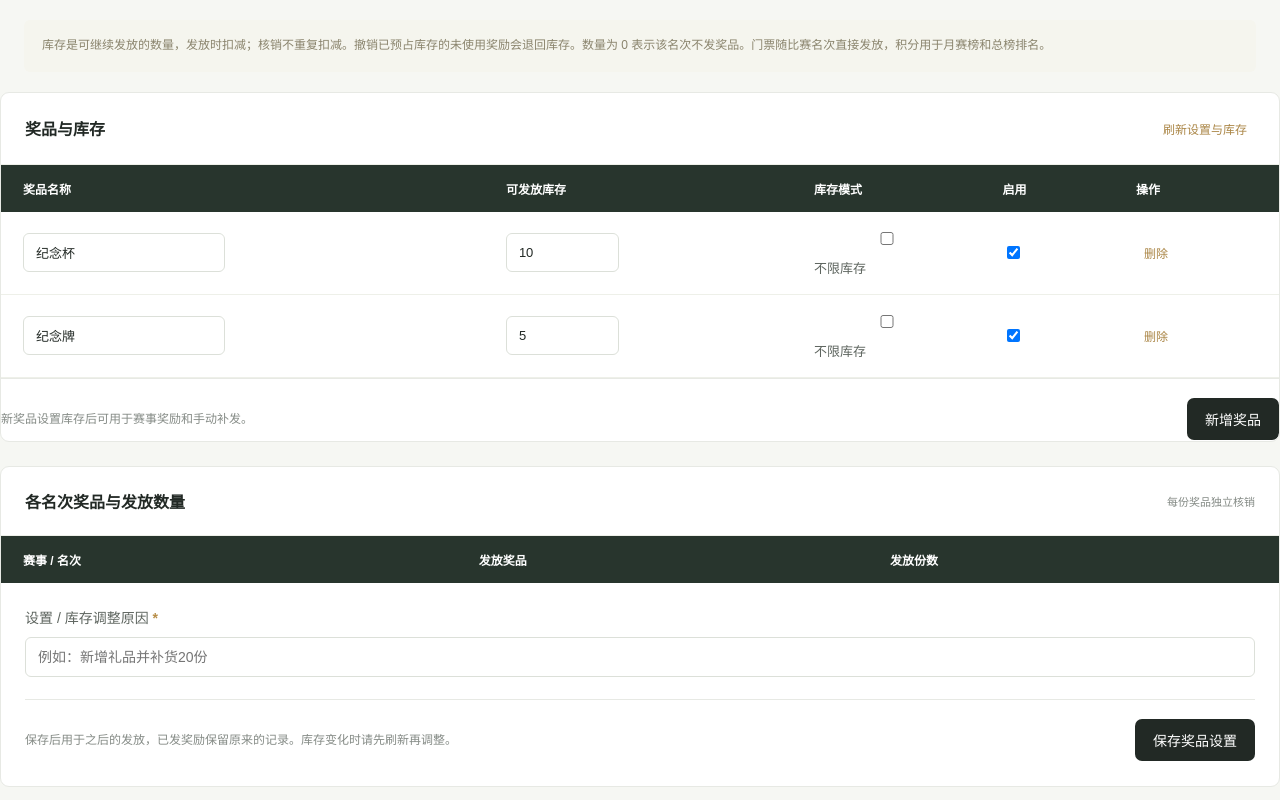
Test case: 删除奖品通过页面弹窗确认，保留其他尚未保存的修改
The image size is (1280, 800).
Expected: the field named "CUSTOM_A奖品名称" is shown, [23,233,225,272]
Replace the text in the field named "CUSTOM_B奖品名称" with "保留未保存修改" at (124, 336), box [23,316,225,355]
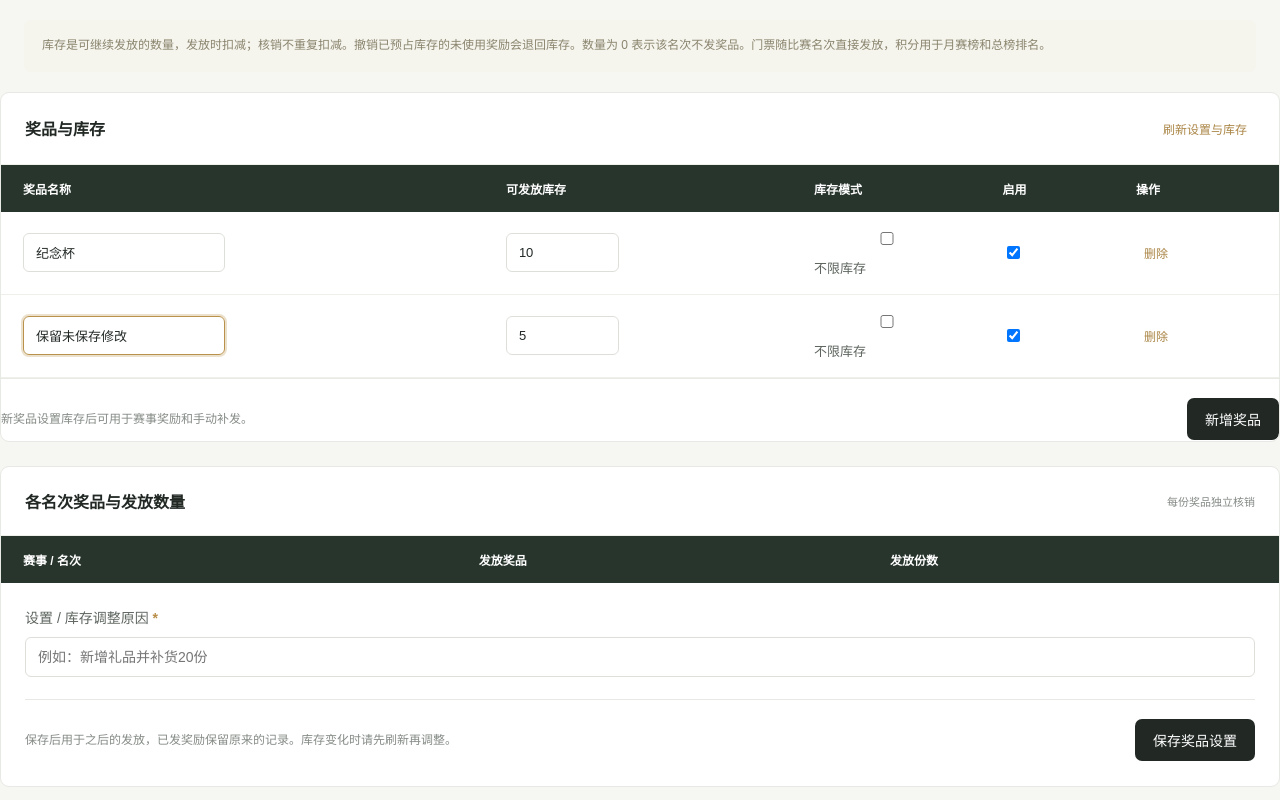
Click the button with aria-label "删除纪念杯" at (1156, 253), box [1136,239,1176,266]
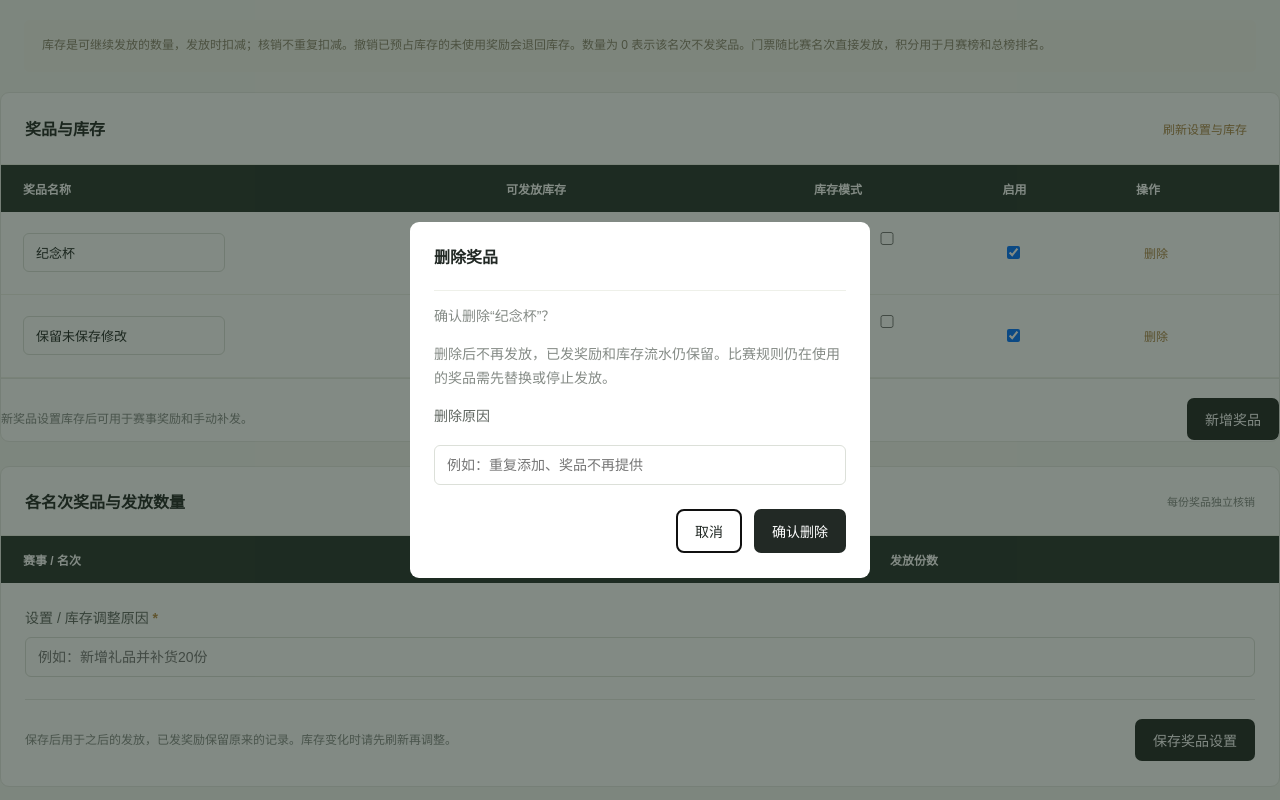
Click the button "取消" at (709, 531), box [676,509,742,553]
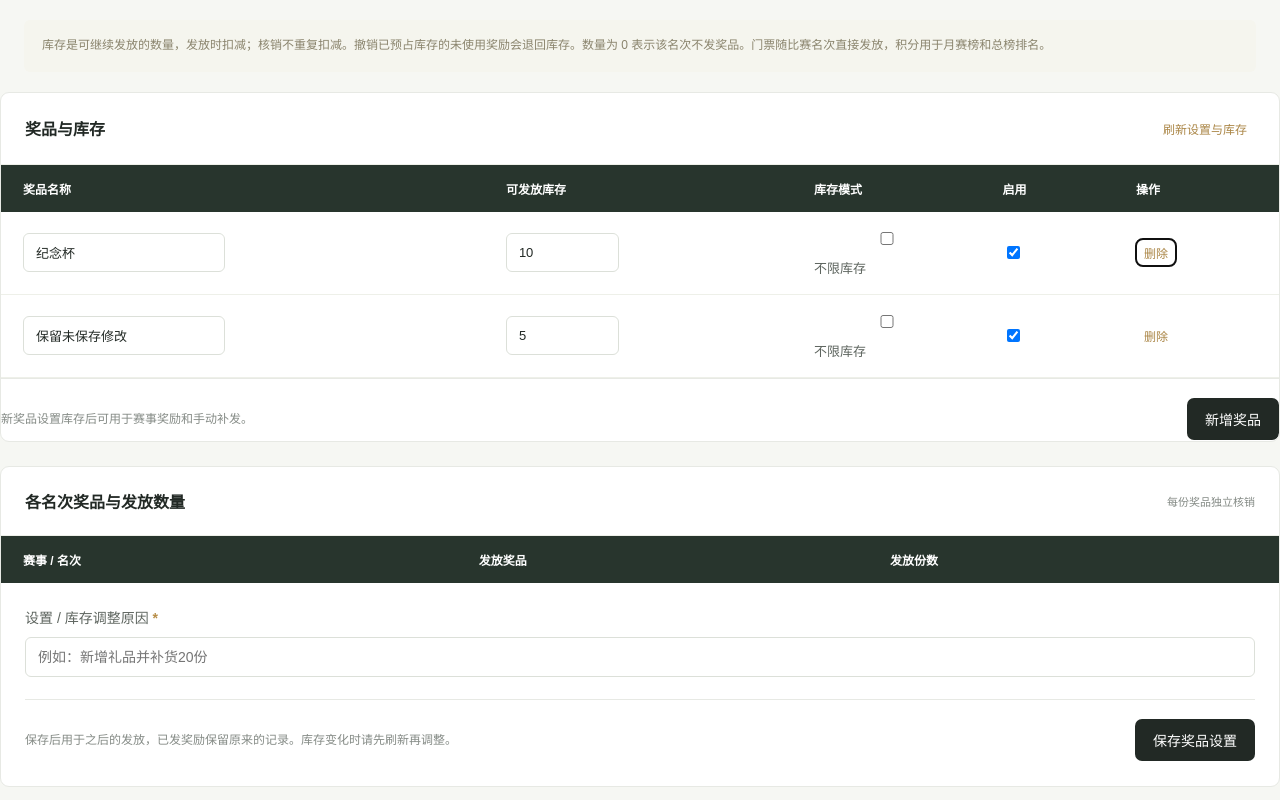
Click the button with aria-label "删除纪念杯" at (1156, 253), box [1136,239,1176,266]
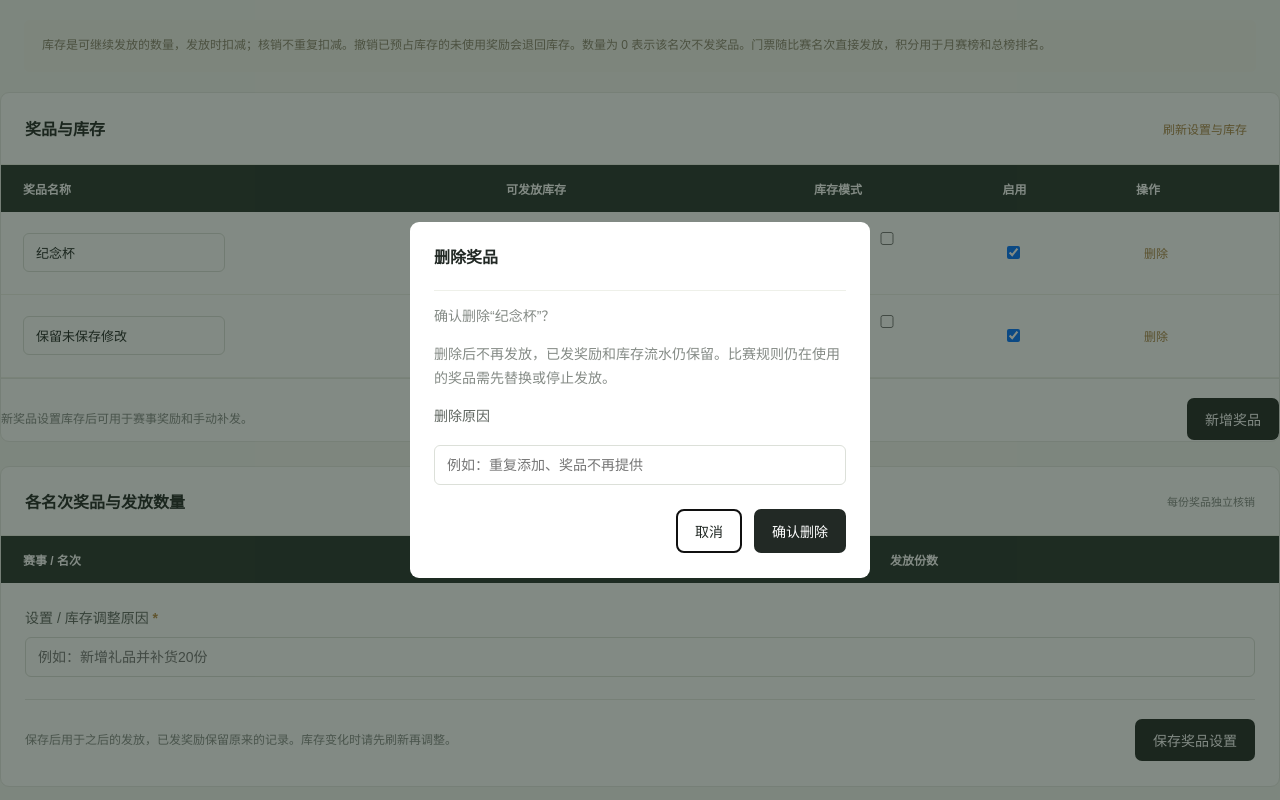
Type " 不再提供 " into the field labelled "删除原因" at (640, 465), box [434,445,846,485]
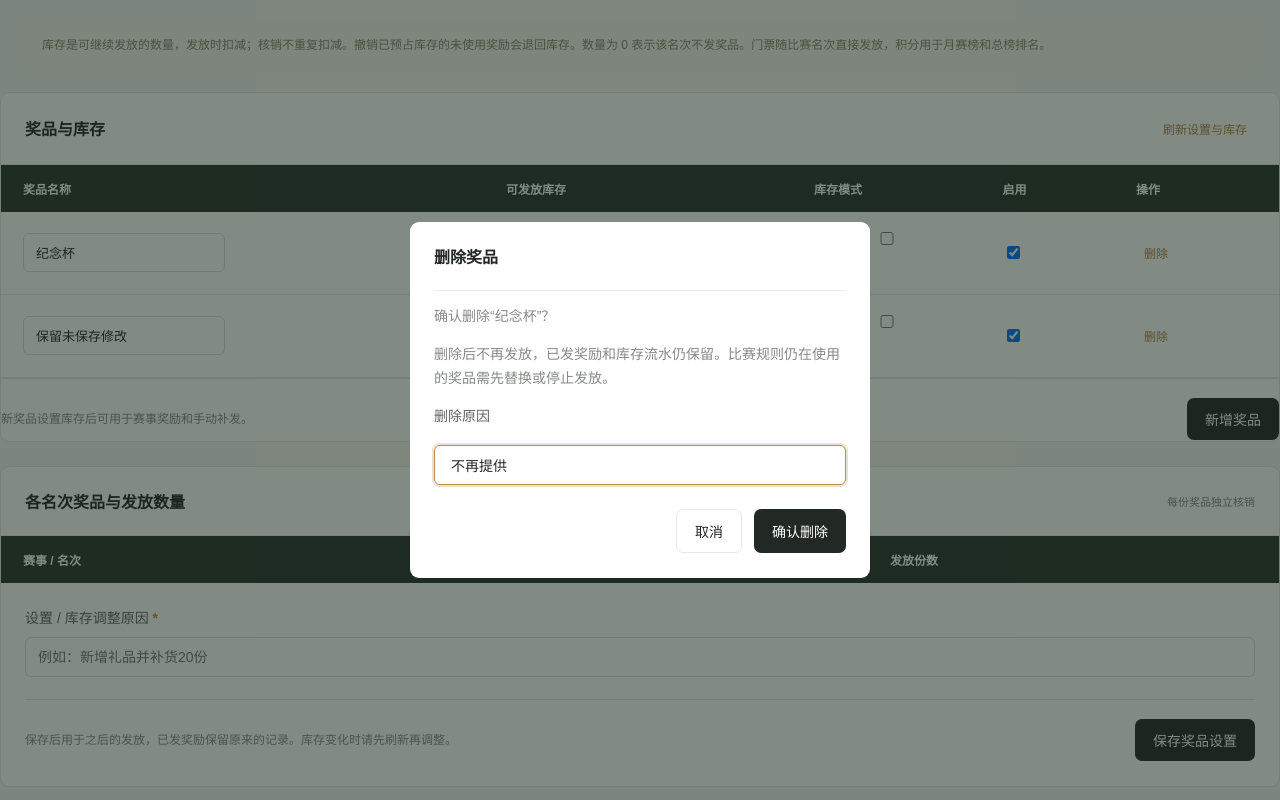
Click the button "确认删除" at (800, 531), box [754,509,846,553]
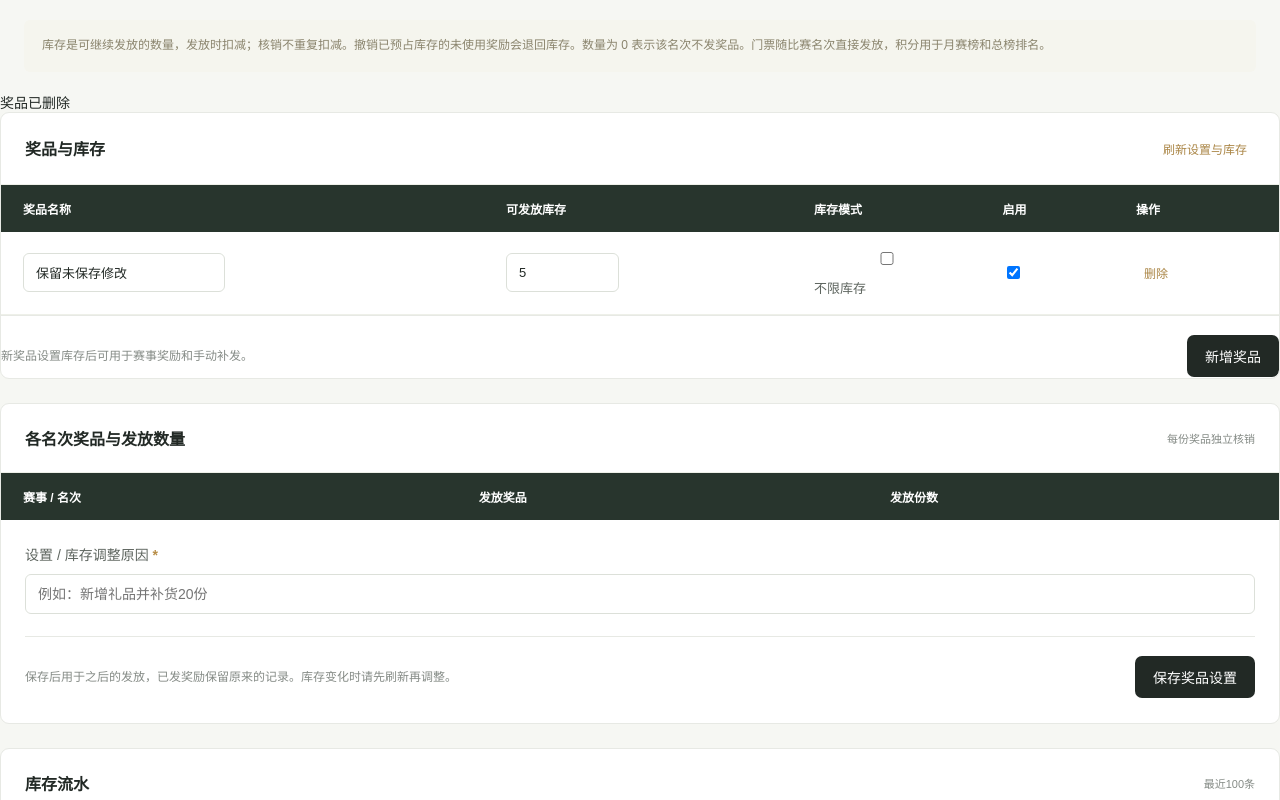
Result: the text "奖品已删除" is shown at [0,95,70,111]
Result: the field labelled "CUSTOM_A奖品名称" is gone
